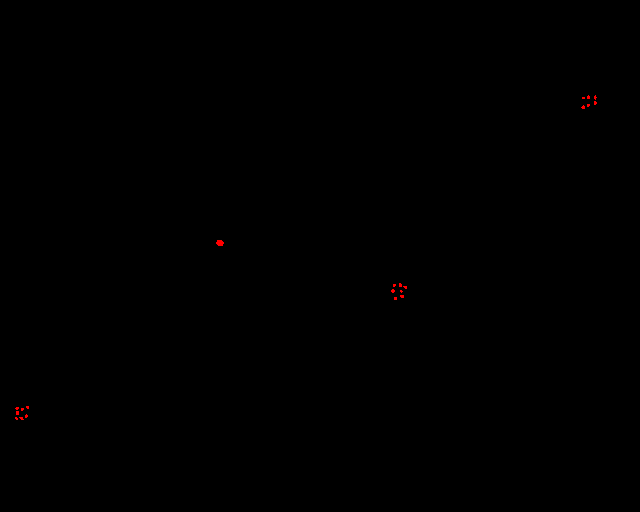Target: (216, 240, 224, 246), (581, 105, 585, 109), (391, 289, 395, 293), (594, 95, 597, 100), (19, 417, 24, 420), (587, 95, 590, 99), (594, 101, 597, 105), (399, 283, 402, 287), (403, 286, 407, 289), (400, 295, 404, 298), (15, 407, 19, 410), (16, 411, 19, 415), (25, 414, 28, 418), (587, 104, 590, 107), (393, 284, 396, 287), (400, 290, 403, 293), (394, 297, 397, 300), (26, 406, 29, 409), (21, 408, 24, 411), (15, 417, 18, 420), (582, 97, 585, 99)
